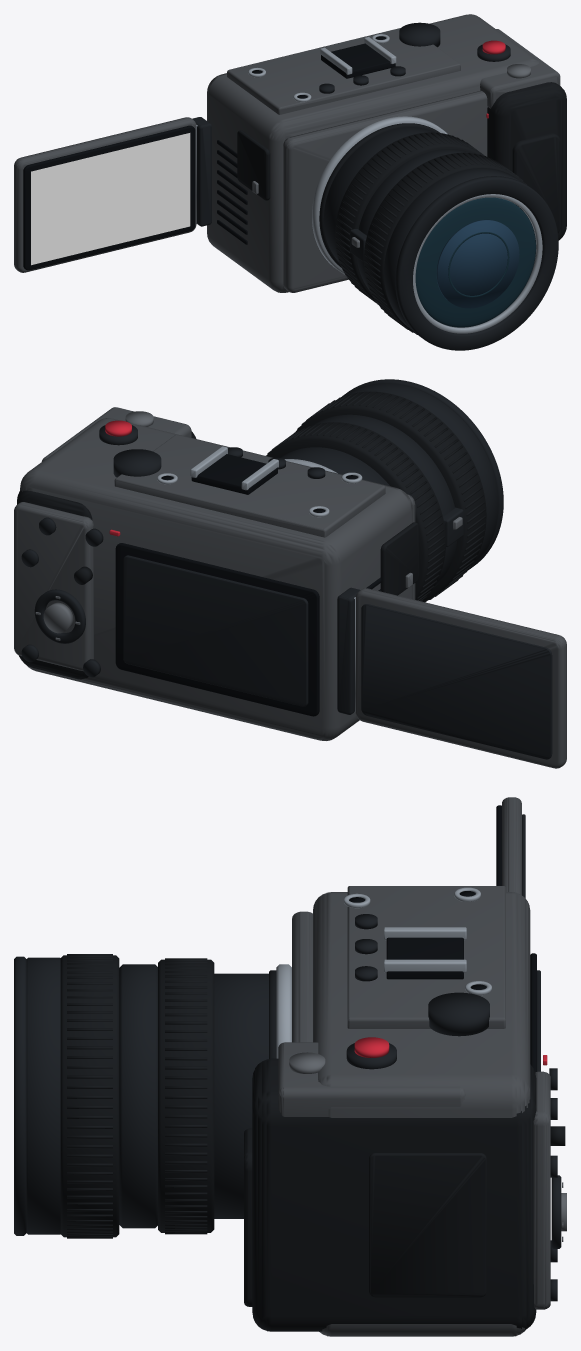
The model's file is Cinema_Camera.obj.
3 views of the same model, one above another, from view 1: azimuth 30°, elevation 25°; view 2: azimuth 150°, elevation 25°; view 3: azimuth 270°, elevation 25° (orthographic). The views are drawn at different scales.
Parts seen in each view (by area): view 1: Camera_body, Screen_Placeholder, Front_body_plate, Filter_rim, Top_deck, Lens_front_glass, Optical_inner_disc, Hand_grip, Focus_ring, Zoom_ring, LCD_bezel, LCD_housing (+15 smaller); view 2: Camera_body, LCD_rear_cover, Rear_LCD_inner, Top_deck, Rear_control_plate, LCD_housing, Focus_ring, Rear_LCD_recess, Zoom_ring, Lens_front_barrel, Lens_middle_barrel, Focus_knurling (+12 smaller); view 3: Hand_grip, Camera_body, Card_door, Top_deck, Focus_ring, Zoom_ring, Lens_middle_barrel, Lens_rear_barrel, Lens_front_barrel, Focus_knurling, Grip_top_cap, Zoom_knurling (+15 smaller).
Boxes of the visible parts, x1,y1,x2,y2 form: Camera_body: [207, 14, 539, 292]; Screen_Placeholder: [31, 133, 190, 265]; Front_body_plate: [283, 90, 487, 292]; Filter_rim: [395, 176, 558, 350]; Top_deck: [227, 28, 460, 114]; Lens_front_glass: [415, 197, 535, 327]; Optical_inner_disc: [436, 219, 519, 308]; Hand_grip: [487, 82, 566, 240]; Focus_ring: [364, 152, 526, 333]; Zoom_ring: [335, 132, 483, 301]; LCD_bezel: [23, 125, 195, 270]; LCD_housing: [14, 117, 196, 272]; Camera_body: [20, 418, 412, 740]; LCD_rear_cover: [361, 604, 552, 759]; Rear_LCD_inner: [123, 555, 308, 706]; Top_deck: [114, 435, 385, 537]; Rear_control_plate: [14, 502, 93, 671]; LCD_housing: [355, 588, 566, 768]; Focus_ring: [294, 391, 486, 601]; Rear_LCD_recess: [115, 543, 319, 716]; Zoom_ring: [266, 422, 445, 600]; Lens_front_barrel: [343, 383, 498, 568]; Lens_middle_barrel: [314, 414, 457, 588]; Focus_knurling: [294, 391, 485, 602]; Hand_grip: [252, 1058, 536, 1331]; Camera_body: [313, 892, 530, 1336]; Card_door: [369, 1153, 486, 1297]; Top_deck: [347, 886, 505, 1028]; Focus_ring: [60, 955, 119, 1237]; Zoom_ring: [158, 959, 214, 1232]; Lens_middle_barrel: [119, 964, 157, 1228]; Lens_rear_barrel: [214, 973, 268, 1218]; Lens_front_barrel: [26, 957, 60, 1234]; Focus_knurling: [67, 954, 112, 1238]; Grip_top_cap: [278, 1042, 465, 1116]; Zoom_knurling: [165, 958, 207, 1234].
Size of the model in its own units: 0.2225 by 0.0892 by 0.15.
